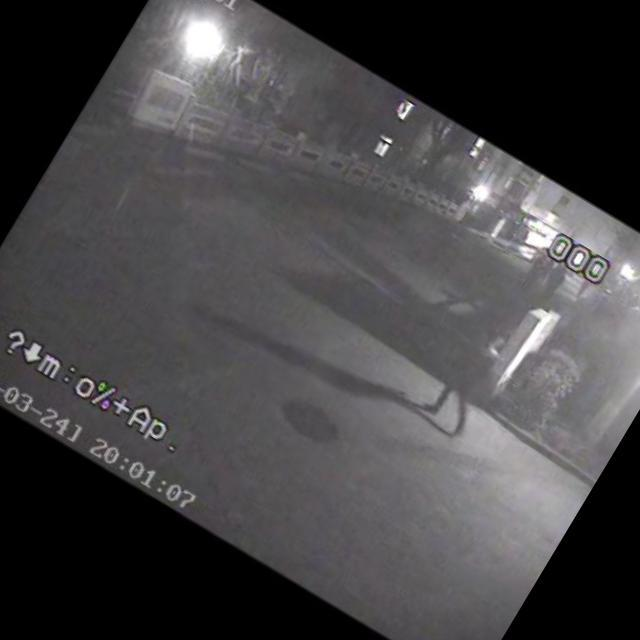person: (403, 312, 519, 448), (532, 266, 573, 312), (514, 257, 550, 301)
